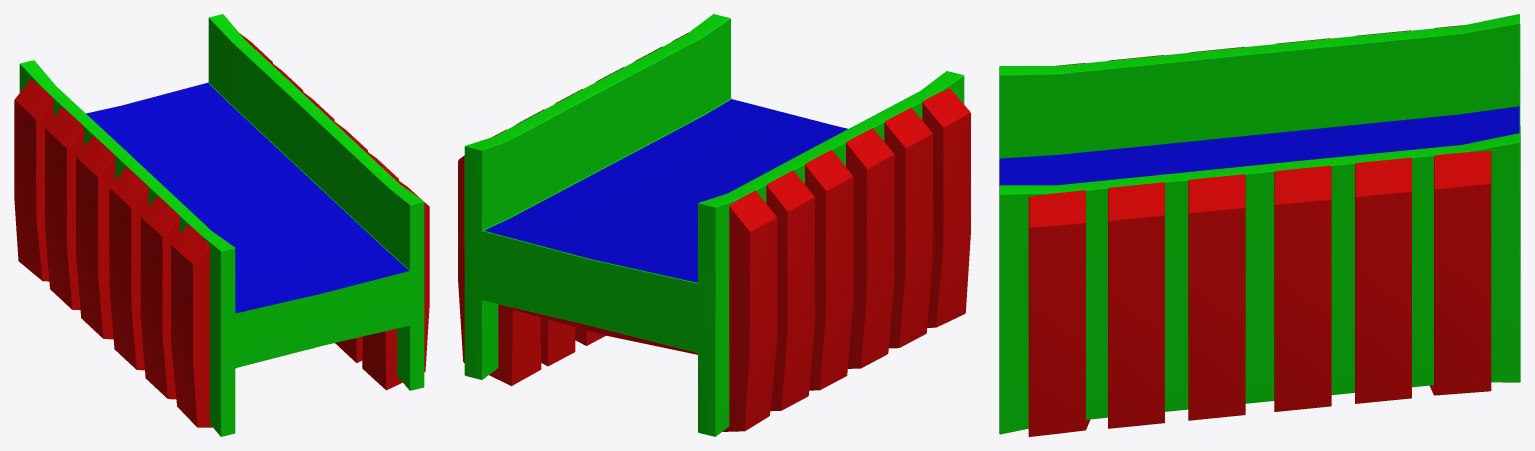
Rendered from SM_Builder_Bridge_Heavy_Ramp.fbx.
3 views of the same model, side by side, from view 1: azimuth 30°, elevation 25°; view 2: azimuth 150°, elevation 25°; view 3: azimuth 270°, elevation 25° (orthographic). The views are drawn at different scales.
Parts seen in each view (by area): view 1: SM_HeavyBridge_Ramp; view 2: SM_HeavyBridge_Ramp; view 3: SM_HeavyBridge_Ramp.
Boxes of the visible parts, left/top/right/bottom form: SM_HeavyBridge_Ramp: left=14, top=14, right=429, bottom=436; SM_HeavyBridge_Ramp: left=458, top=14, right=970, bottom=436; SM_HeavyBridge_Ramp: left=999, top=14, right=1520, bottom=436.
Size of the model in its own units: 992 by 1462 by 932.
